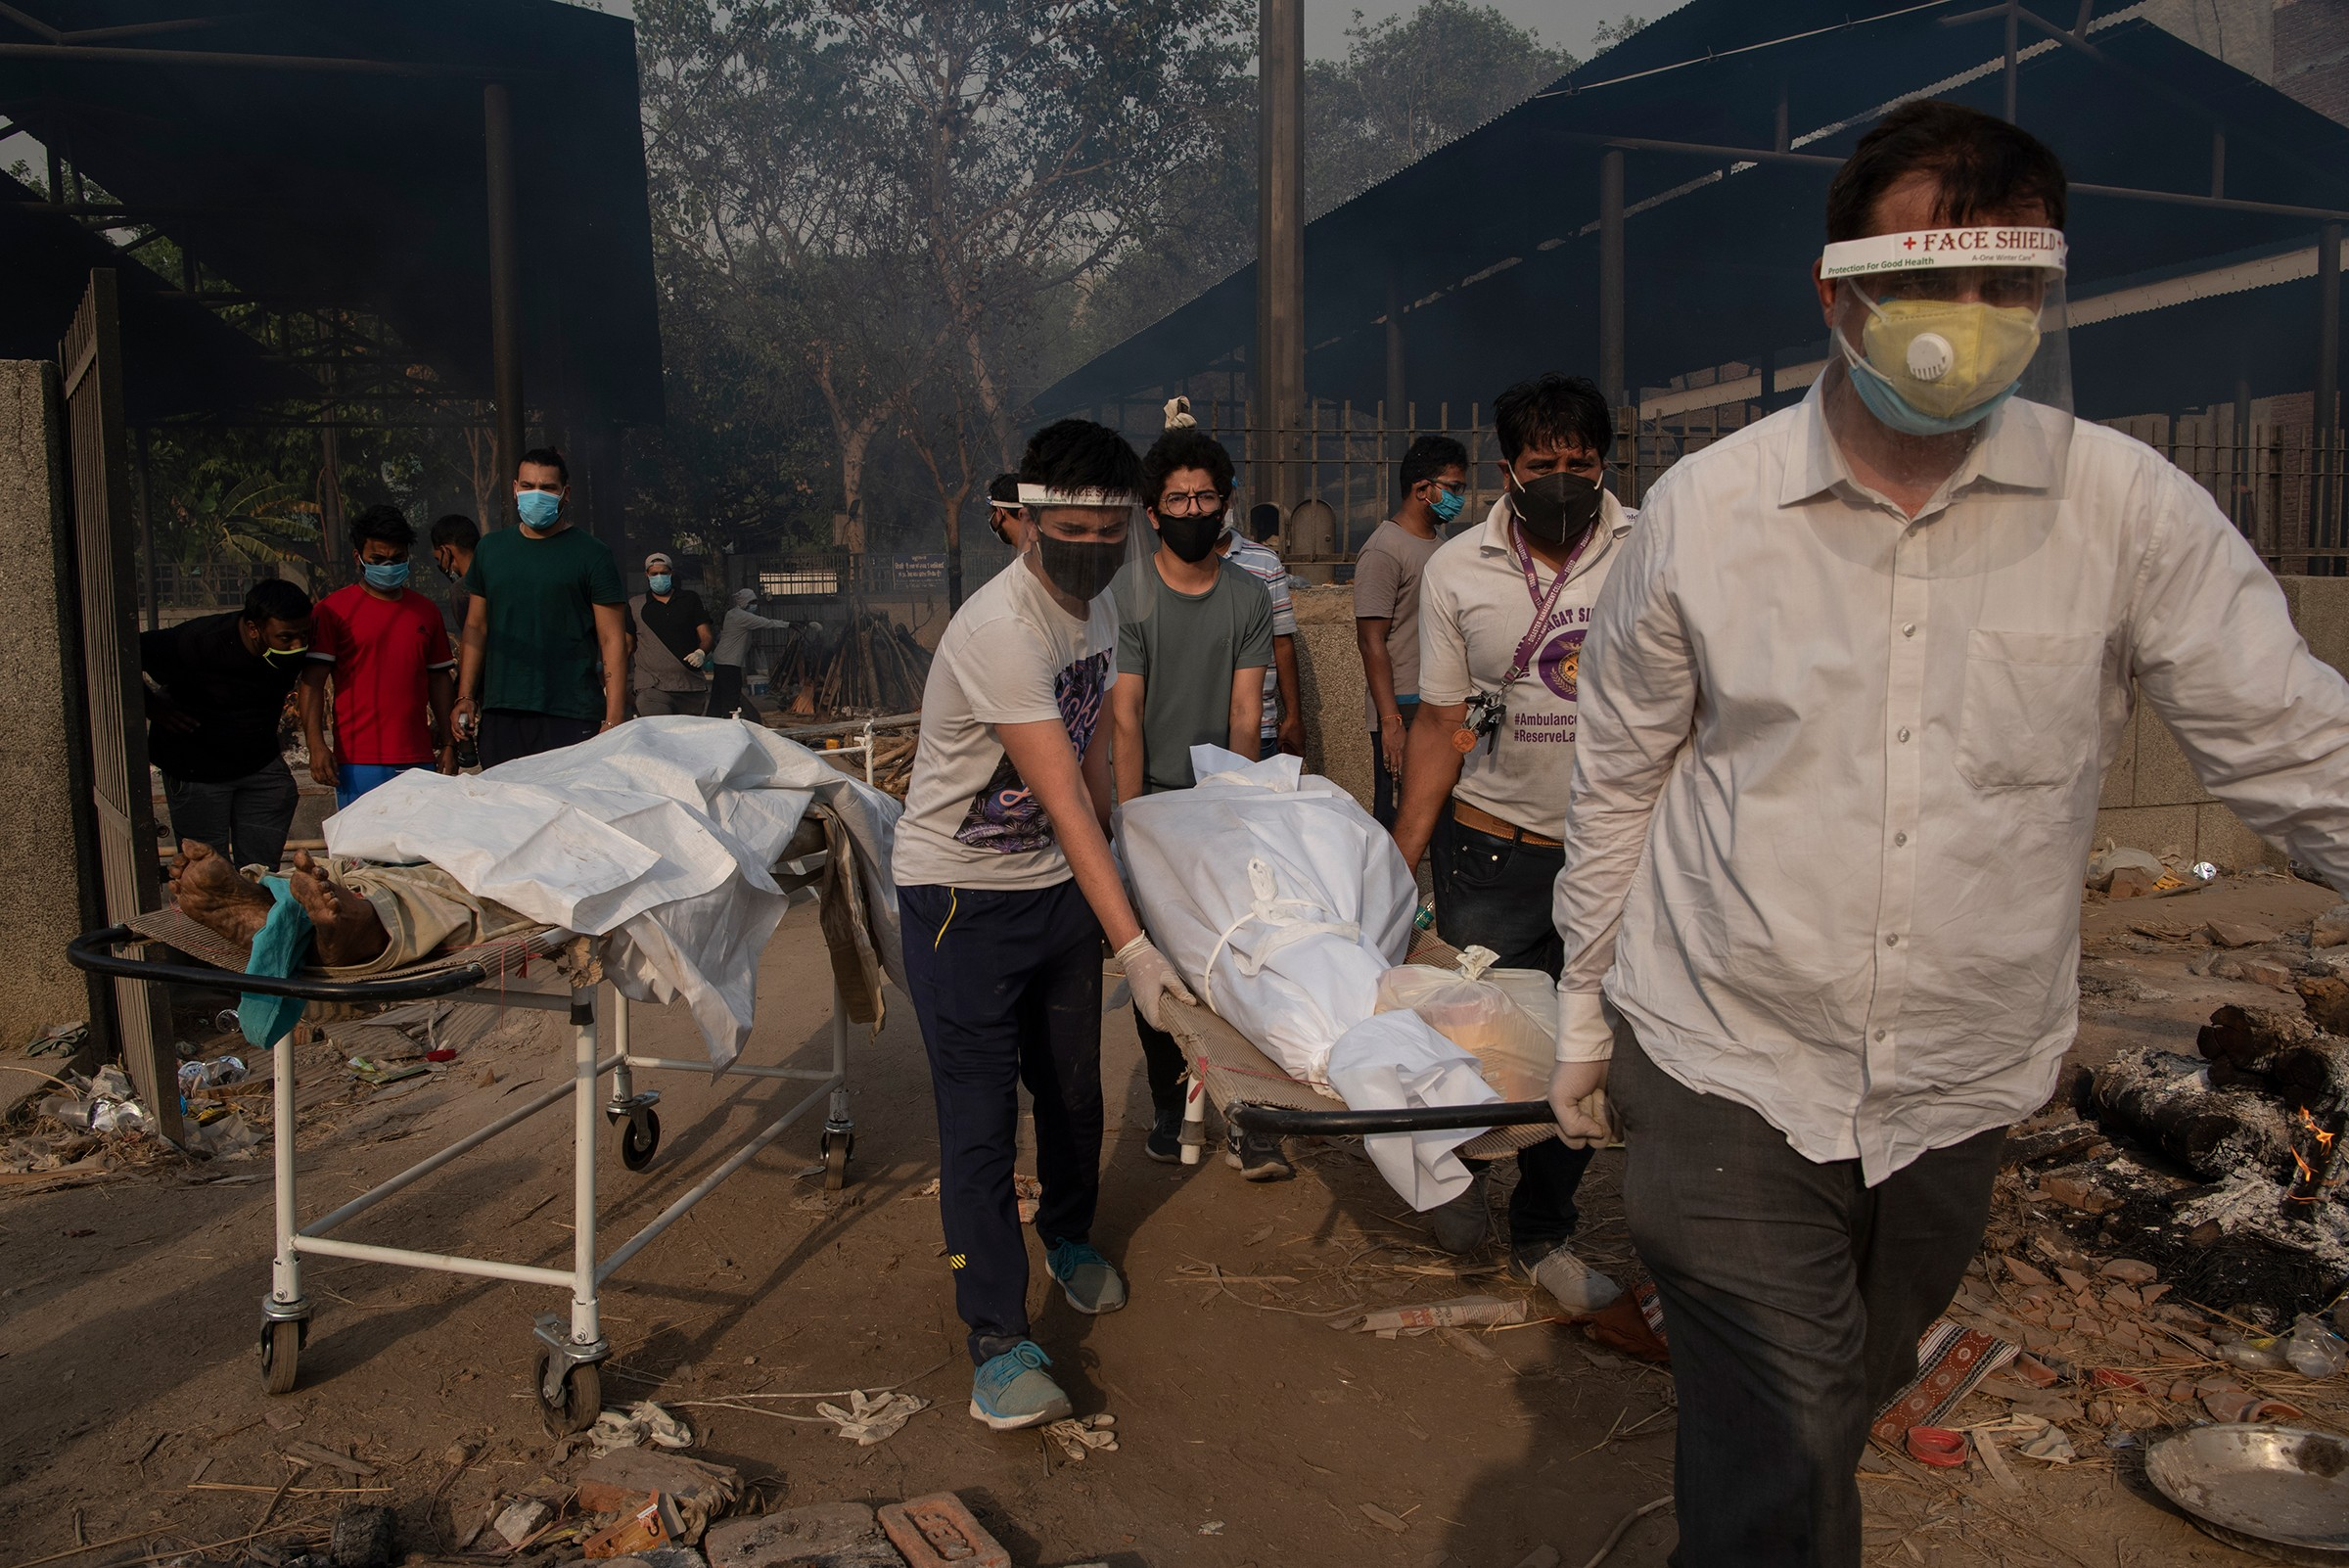Face_Shield: (1810, 220, 2070, 591), (1009, 483, 1143, 619)
with_mask: (1854, 266, 2047, 444), (1503, 454, 1604, 555), (1037, 519, 1123, 612), (1151, 487, 1230, 565), (247, 619, 311, 691), (357, 539, 414, 601), (512, 470, 566, 531), (1418, 467, 1465, 531), (643, 557, 671, 601)
